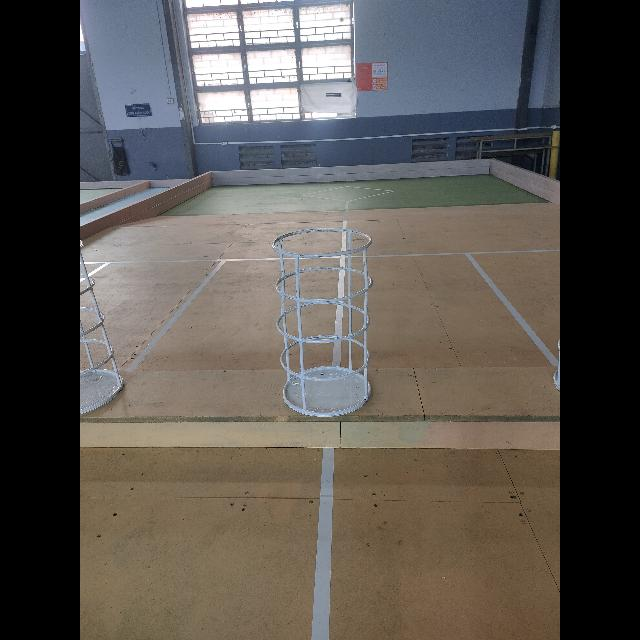S: (271, 227, 373, 417), (80, 237, 126, 417)
